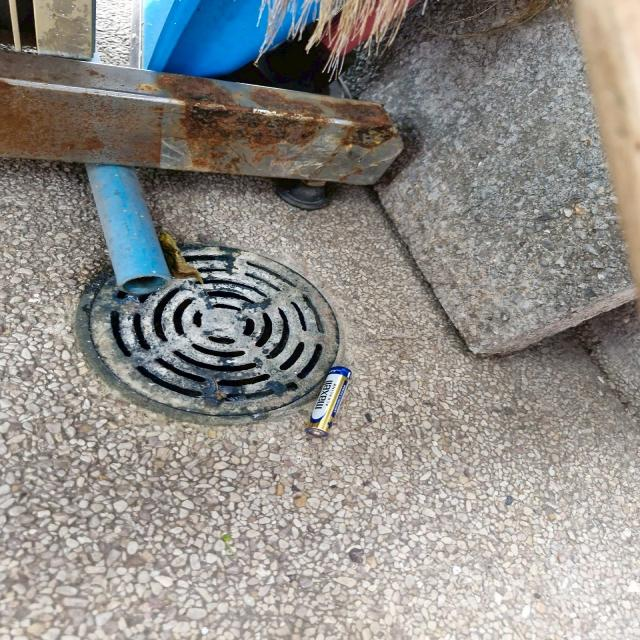battery: (309, 365, 354, 440)
